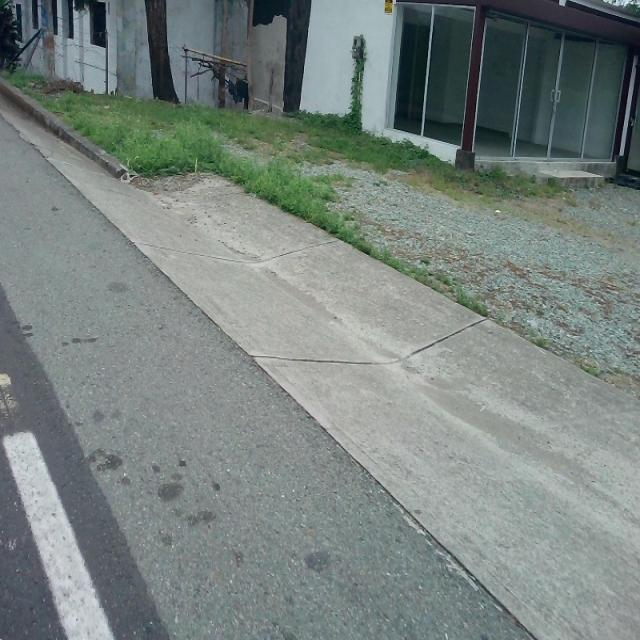DITCH: (2, 79, 638, 638)
